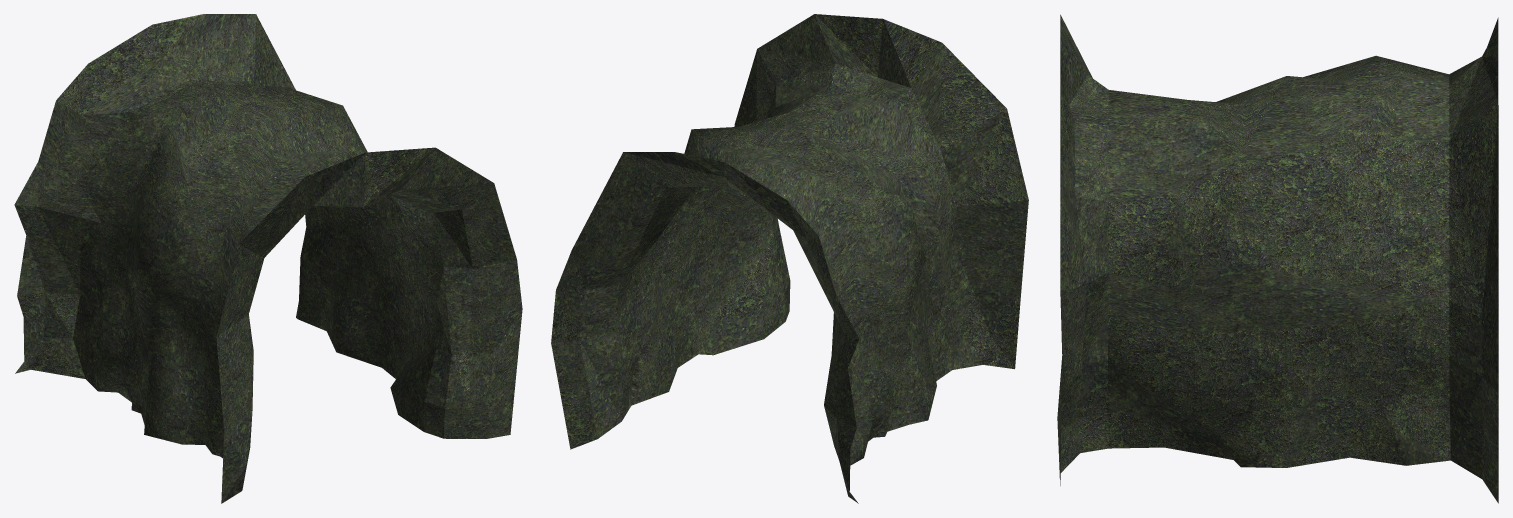
The model's file is cliff_tunnel_01_lod_01.fbx.
The picture shows the model from 3 angles, left to right: view 1: azimuth 30°, elevation 25°; view 2: azimuth 150°, elevation 25°; view 3: azimuth 270°, elevation 25°; orthographic projection. The views are drawn at different scales.
Parts seen in each view (by area): view 1: cliff_tunnel_01; view 2: cliff_tunnel_01; view 3: cliff_tunnel_01.
Part boxes in pixels (<box>): cliff_tunnel_01: <box>14,14,522,503</box>; cliff_tunnel_01: <box>551,14,1028,503</box>; cliff_tunnel_01: <box>1057,14,1498,503</box>.
Bounding box in the file's own units: 75.99 × 75.77 × 77.39.
